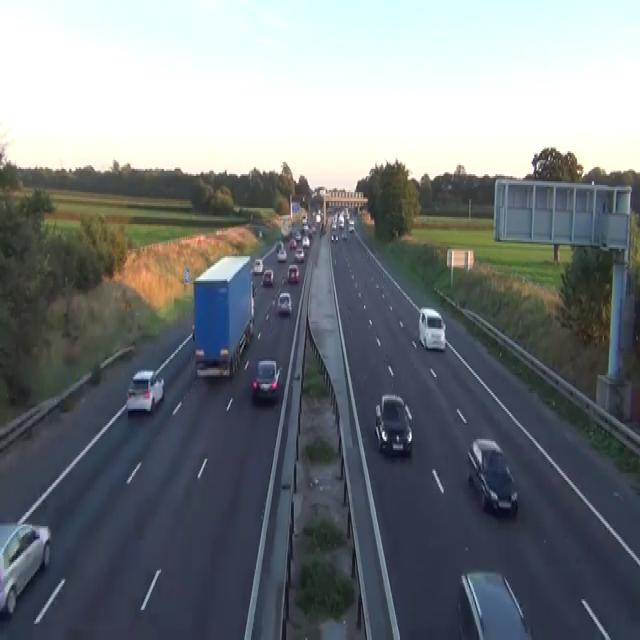Car: (456, 569, 533, 638), (0, 521, 51, 615), (467, 437, 518, 514), (374, 393, 412, 455), (126, 368, 164, 412), (418, 306, 446, 350), (251, 359, 281, 400), (330, 206, 355, 244), (276, 292, 292, 314), (286, 263, 299, 283), (261, 268, 273, 286), (90, 361, 100, 382), (253, 258, 263, 274), (239, 332, 245, 356), (294, 247, 304, 261), (277, 249, 286, 261), (250, 279, 256, 297), (289, 238, 297, 249), (302, 224, 310, 235), (272, 292, 278, 306), (232, 203, 240, 213), (338, 215, 344, 228), (276, 240, 283, 251), (294, 229, 301, 240), (348, 219, 354, 231), (315, 210, 321, 222), (191, 324, 195, 342), (302, 237, 309, 247), (320, 222, 325, 235), (331, 233, 338, 242), (330, 220, 336, 230), (341, 231, 347, 240), (301, 215, 307, 224), (310, 224, 316, 233), (258, 230, 262, 237)
Truck: (191, 252, 254, 378)
